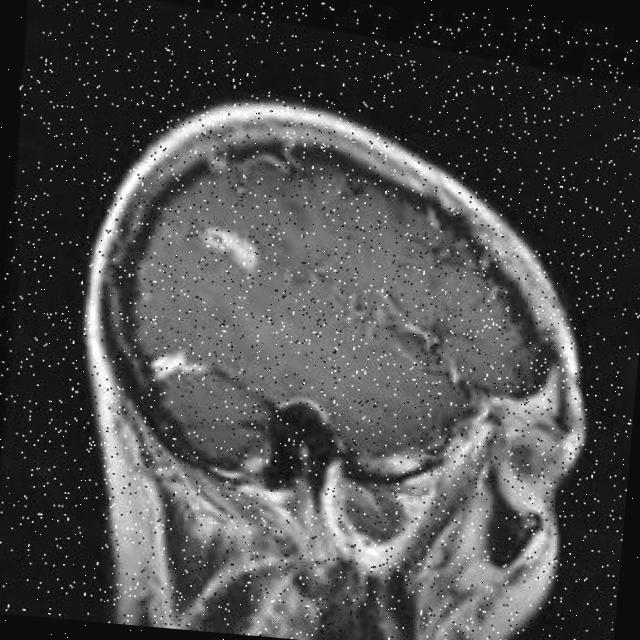EMCI: (235, 357, 333, 498)
